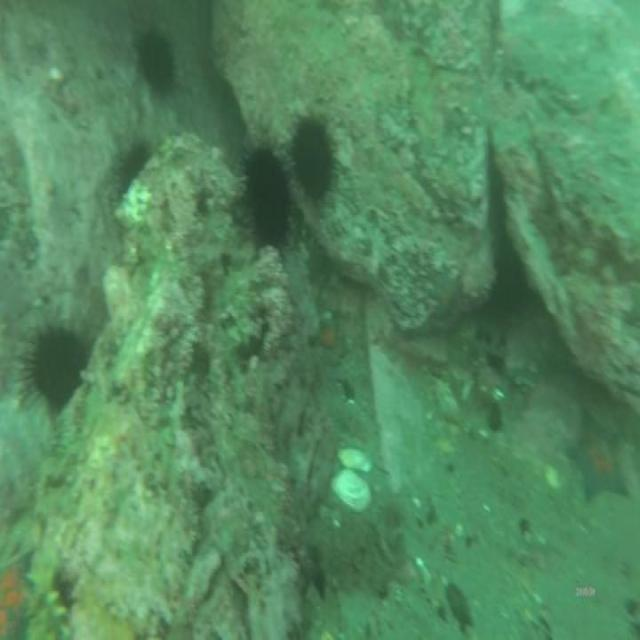echinus: (27, 318, 89, 414), (242, 145, 295, 256), (291, 114, 337, 204), (135, 27, 175, 96), (120, 139, 150, 194)
scallop: (332, 438, 378, 518)
starfish: (564, 400, 632, 510), (0, 545, 42, 640)
